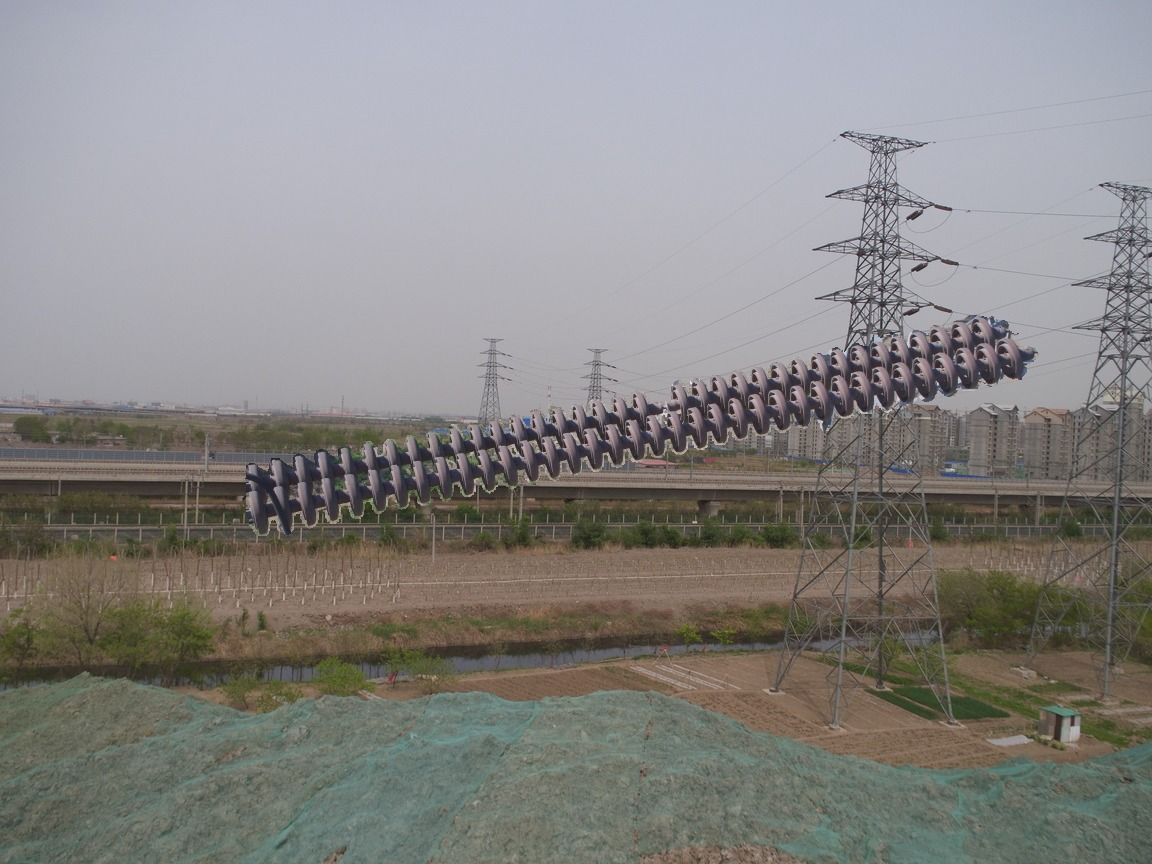defect: (629, 381, 693, 424)
